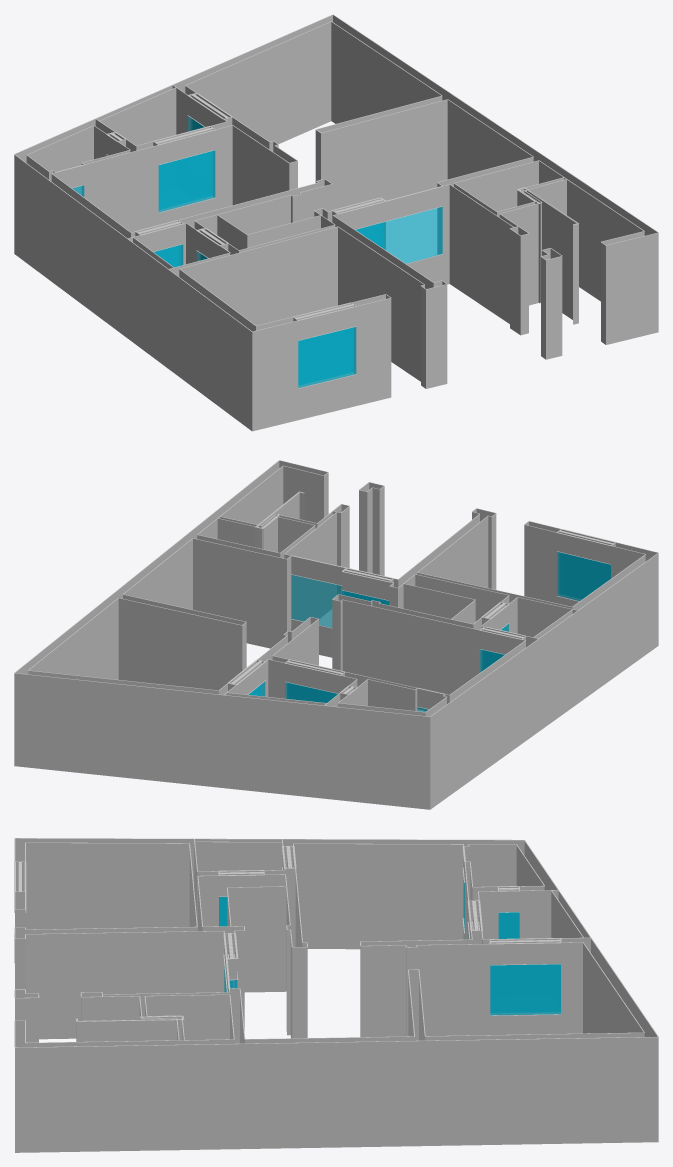
The model's file is 9ba65d1a-ec52-4e1a-874d-b88c396d6f89_no_roof.glb.
3 views of the same model, one above another, from view 1: azimuth 30°, elevation 25°; view 2: azimuth 150°, elevation 25°; view 3: azimuth 270°, elevation 25° (orthographic). The views are drawn at different scales.
Visible parts, largest first — view 1: walls, windows; view 2: walls, windows; view 3: walls, windows.
Part boxes in pixels (left/top/right/bottom): walls: left=14, top=14, right=658, bottom=431; windows: left=72, top=116, right=442, bottom=388; walls: left=14, top=460, right=658, bottom=809; windows: left=248, top=551, right=610, bottom=711; walls: left=14, top=838, right=658, bottom=1152; windows: left=219, top=880, right=560, bottom=1015.
Size of the model in its own units: 10.69 by 2.5 by 13.89.
